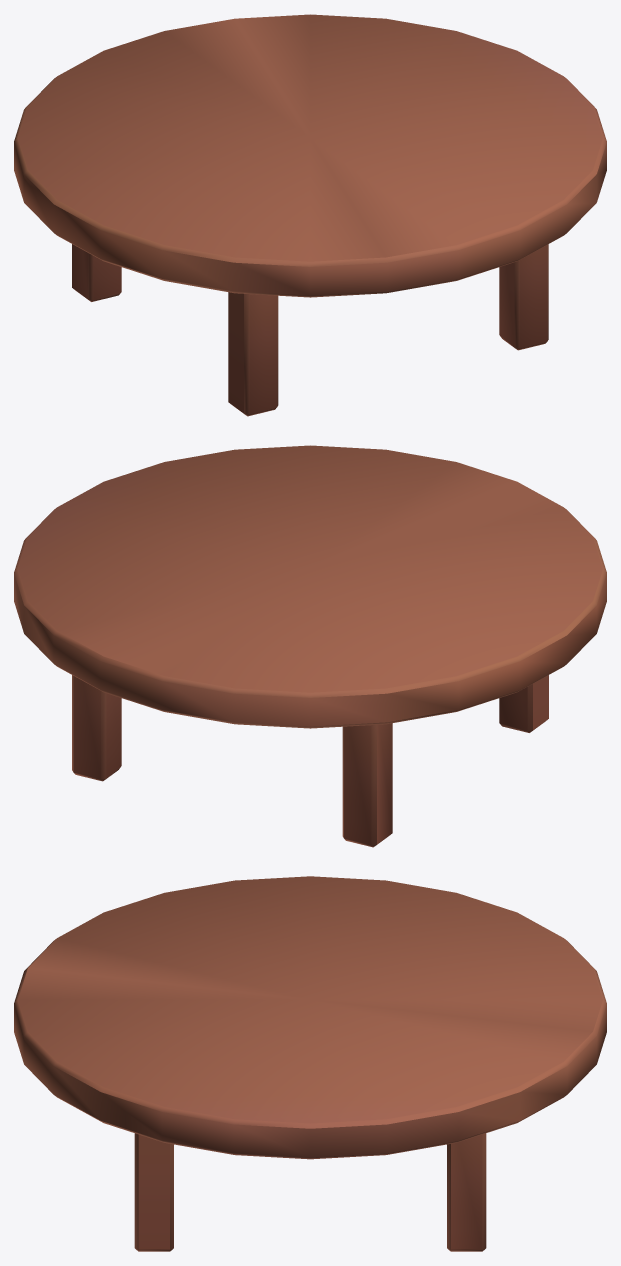
Rendered from kay-mesa-redonda-b.gltf.
3 views of the same model, one above another, from view 1: azimuth 30°, elevation 25°; view 2: azimuth 150°, elevation 25°; view 3: azimuth 270°, elevation 25° (orthographic).
Visible parts, largest first — view 1: table_round_B; view 2: table_round_B; view 3: table_round_B.
Part boxes in pixels (x1=…): table_round_B: x1=14, y1=14, x2=606, y2=416; table_round_B: x1=14, y1=445, x2=606, y2=847; table_round_B: x1=14, y1=876, x2=606, y2=1251.
Size of the model in its own units: 1.95 by 0.6499 by 1.95.
Materials: 1 (1 with a texture image).
